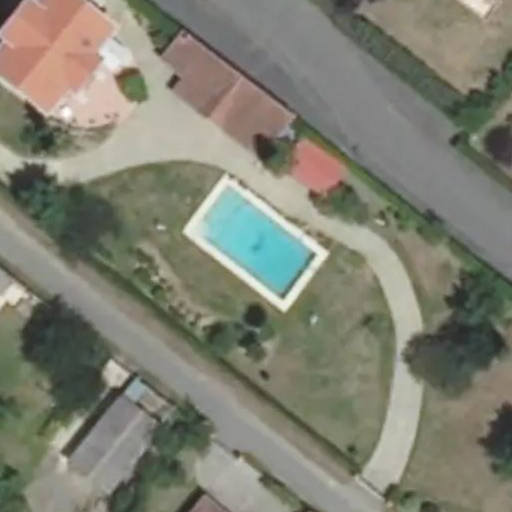pool: (190, 229, 320, 254)
